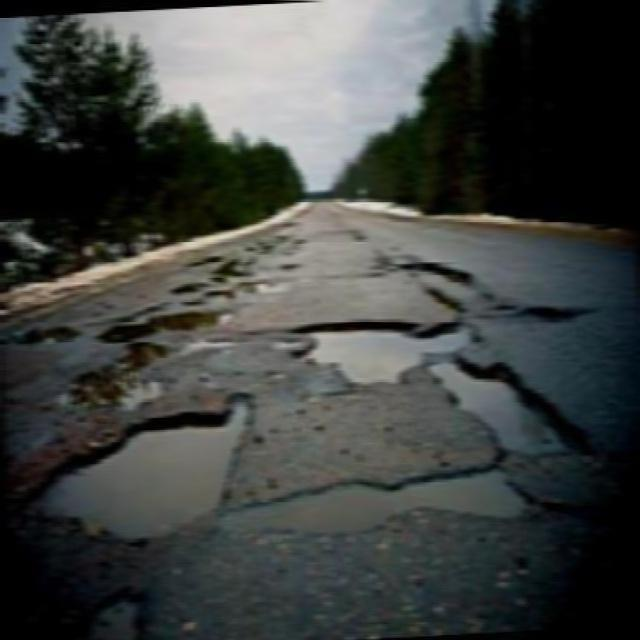Pothole: (9, 385, 272, 537), (212, 462, 562, 536), (433, 350, 603, 467), (282, 315, 482, 394), (76, 342, 180, 417), (188, 229, 306, 278), (75, 578, 156, 640), (510, 296, 598, 331), (148, 303, 238, 333), (389, 255, 474, 284), (0, 324, 81, 348), (235, 276, 302, 302), (426, 287, 466, 314), (165, 279, 211, 300)
